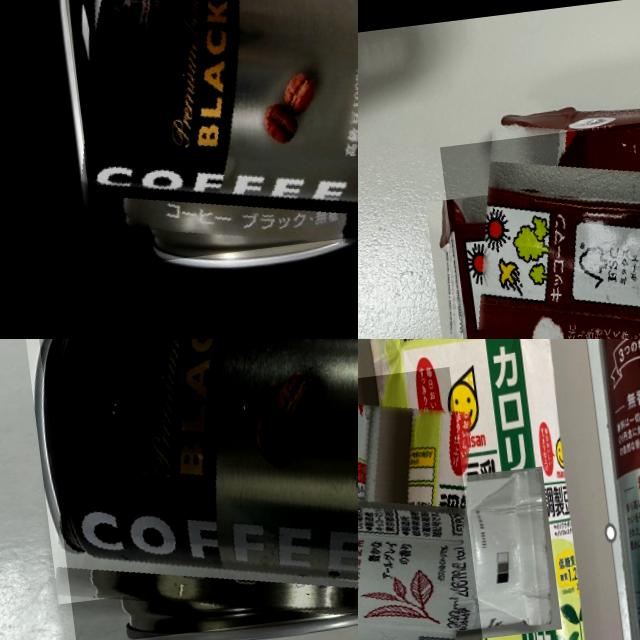Aluminium Foil: (358, 339, 610, 640), (439, 97, 640, 339), (358, 366, 495, 640)
Can: (28, 339, 358, 640), (57, 0, 358, 268), (587, 339, 640, 640)
